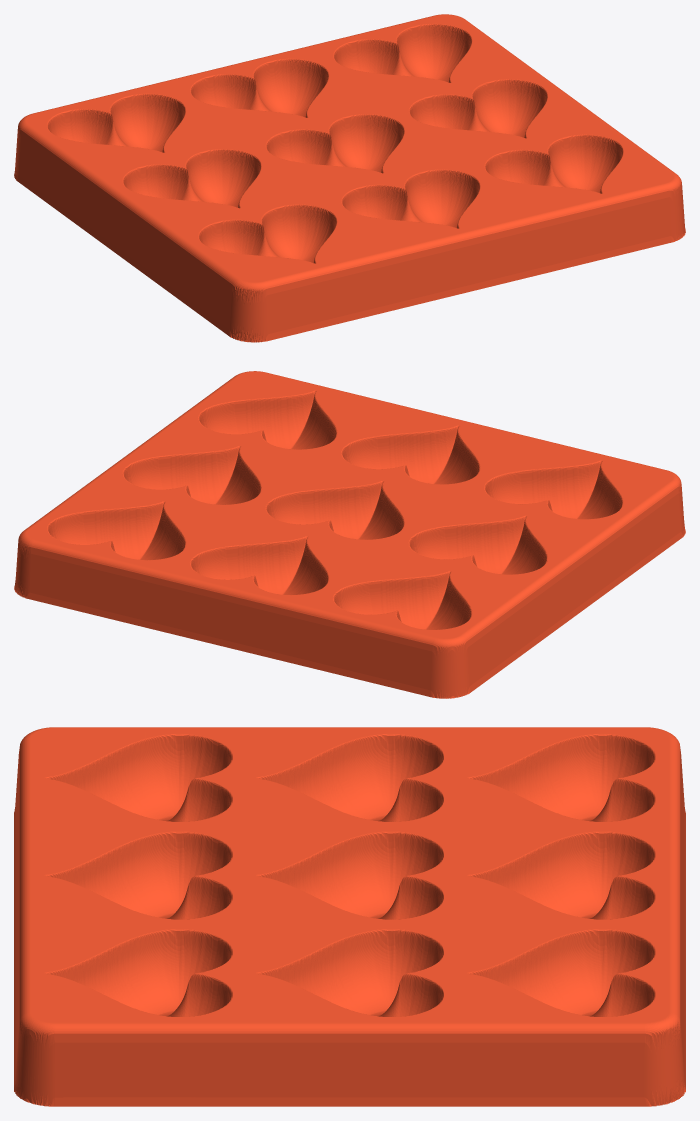
File: mold.glb
3 renders of one model, top to bottom at view 1: azimuth 30°, elevation 25°; view 2: azimuth 150°, elevation 25°; view 3: azimuth 270°, elevation 25°, orthographic. The views are drawn at different scales.
Visible parts, largest first — view 1: geometry_0; view 2: geometry_0; view 3: geometry_0.
Boxes of the visible parts, x1,y1,x2,y2 form: geometry_0: [14, 14, 685, 342]; geometry_0: [14, 371, 685, 698]; geometry_0: [14, 727, 685, 1106].
Size of the model in its own units: 0.1595 by 0.0185 by 0.1467.
